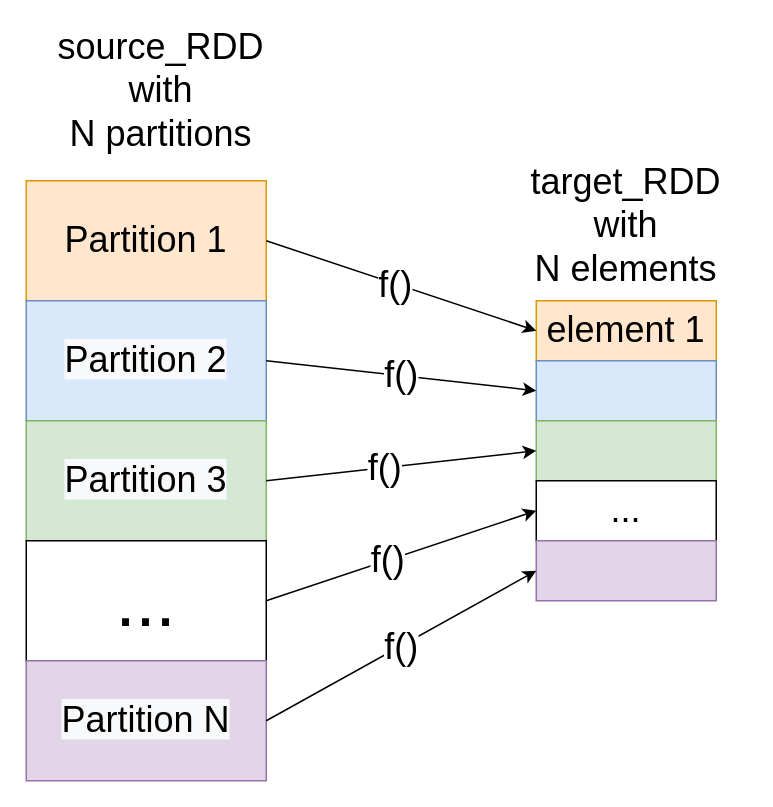
Image size: 773x807. Some labels were removed from this diagram. The box of each missing label's shape, as (x1, y1, x2, y2) in pixels:
element 2: (535, 359, 716, 421)
element 3: (535, 419, 716, 481)
element N: (535, 539, 716, 601)
